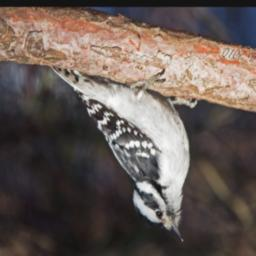Woodpecker: (51, 66, 202, 246)
